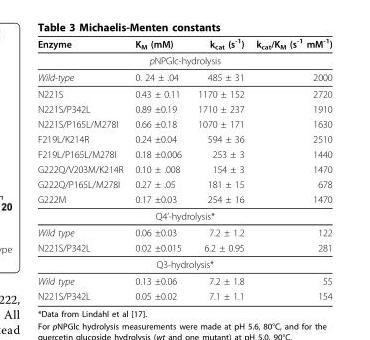table: (36, 36, 331, 301)
table column: (36, 36, 128, 301), (249, 36, 331, 301), (128, 36, 189, 301), (189, 36, 249, 301)
table column header: (36, 36, 331, 52)
table projected row header: (36, 255, 331, 272), (36, 52, 331, 68), (36, 207, 331, 223)
table row: (36, 68, 331, 85), (36, 255, 331, 272), (36, 36, 331, 52), (36, 52, 331, 68), (36, 85, 331, 101), (36, 191, 331, 207), (36, 207, 331, 223), (36, 223, 331, 239), (36, 239, 331, 255), (36, 272, 331, 288), (36, 101, 331, 116), (36, 116, 331, 131), (36, 131, 331, 146), (36, 146, 331, 161), (36, 161, 331, 176), (36, 176, 331, 191), (36, 288, 331, 301)
